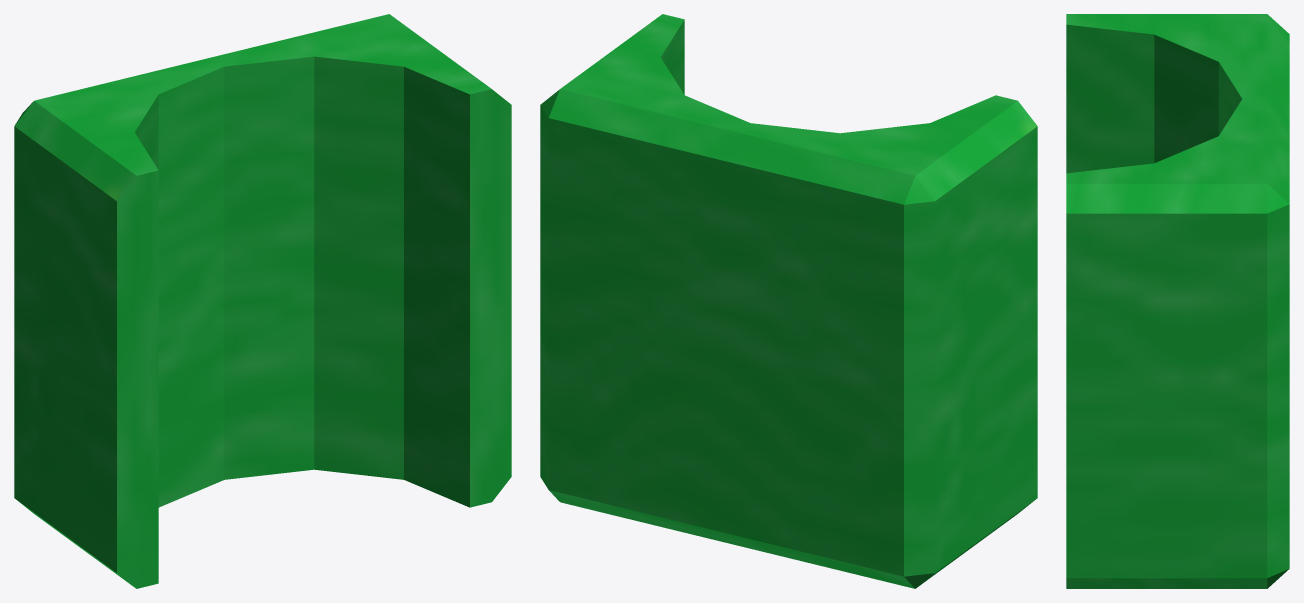
File: HalfBridge.fbx
The picture shows the model from 3 angles, left to right: view 1: azimuth 30°, elevation 25°; view 2: azimuth 150°, elevation 25°; view 3: azimuth 270°, elevation 25°; orthographic projection. The views are drawn at different scales.
Parts seen in each view (by area): view 1: HalfBridge; view 2: HalfBridge; view 3: HalfBridge.
Part boxes in pixels (x1,y1,x2,y2): HalfBridge: (14,14,511,588); HalfBridge: (540,14,1037,588); HalfBridge: (1066,14,1289,588).
Size of the model in its own units: 100 by 100 by 50.
